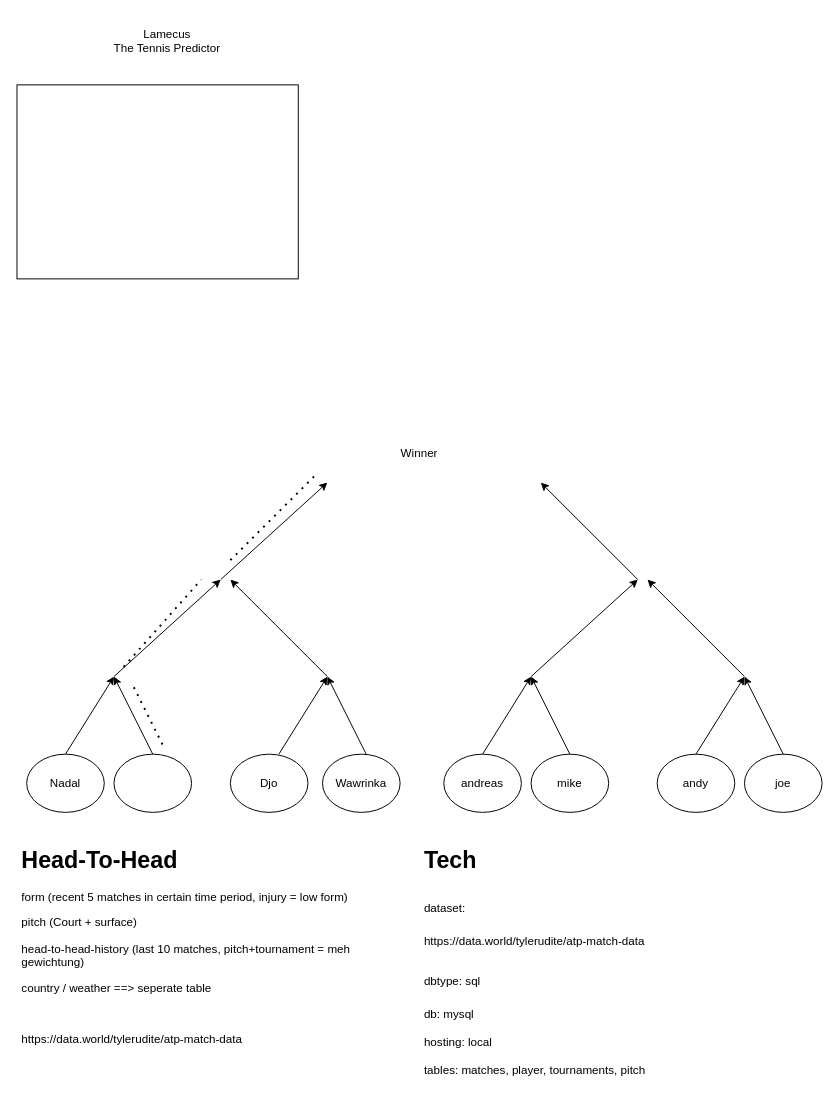
Some shapes in this 839 by 1100 pixel diagram are drawn without their labels. The centre of each missing label's shape, as x and y in pixels:
"Federer" belongs at point 152,782.
"Lamecus UI Input ==> players, tournament, date" belongs at point 157,181.
